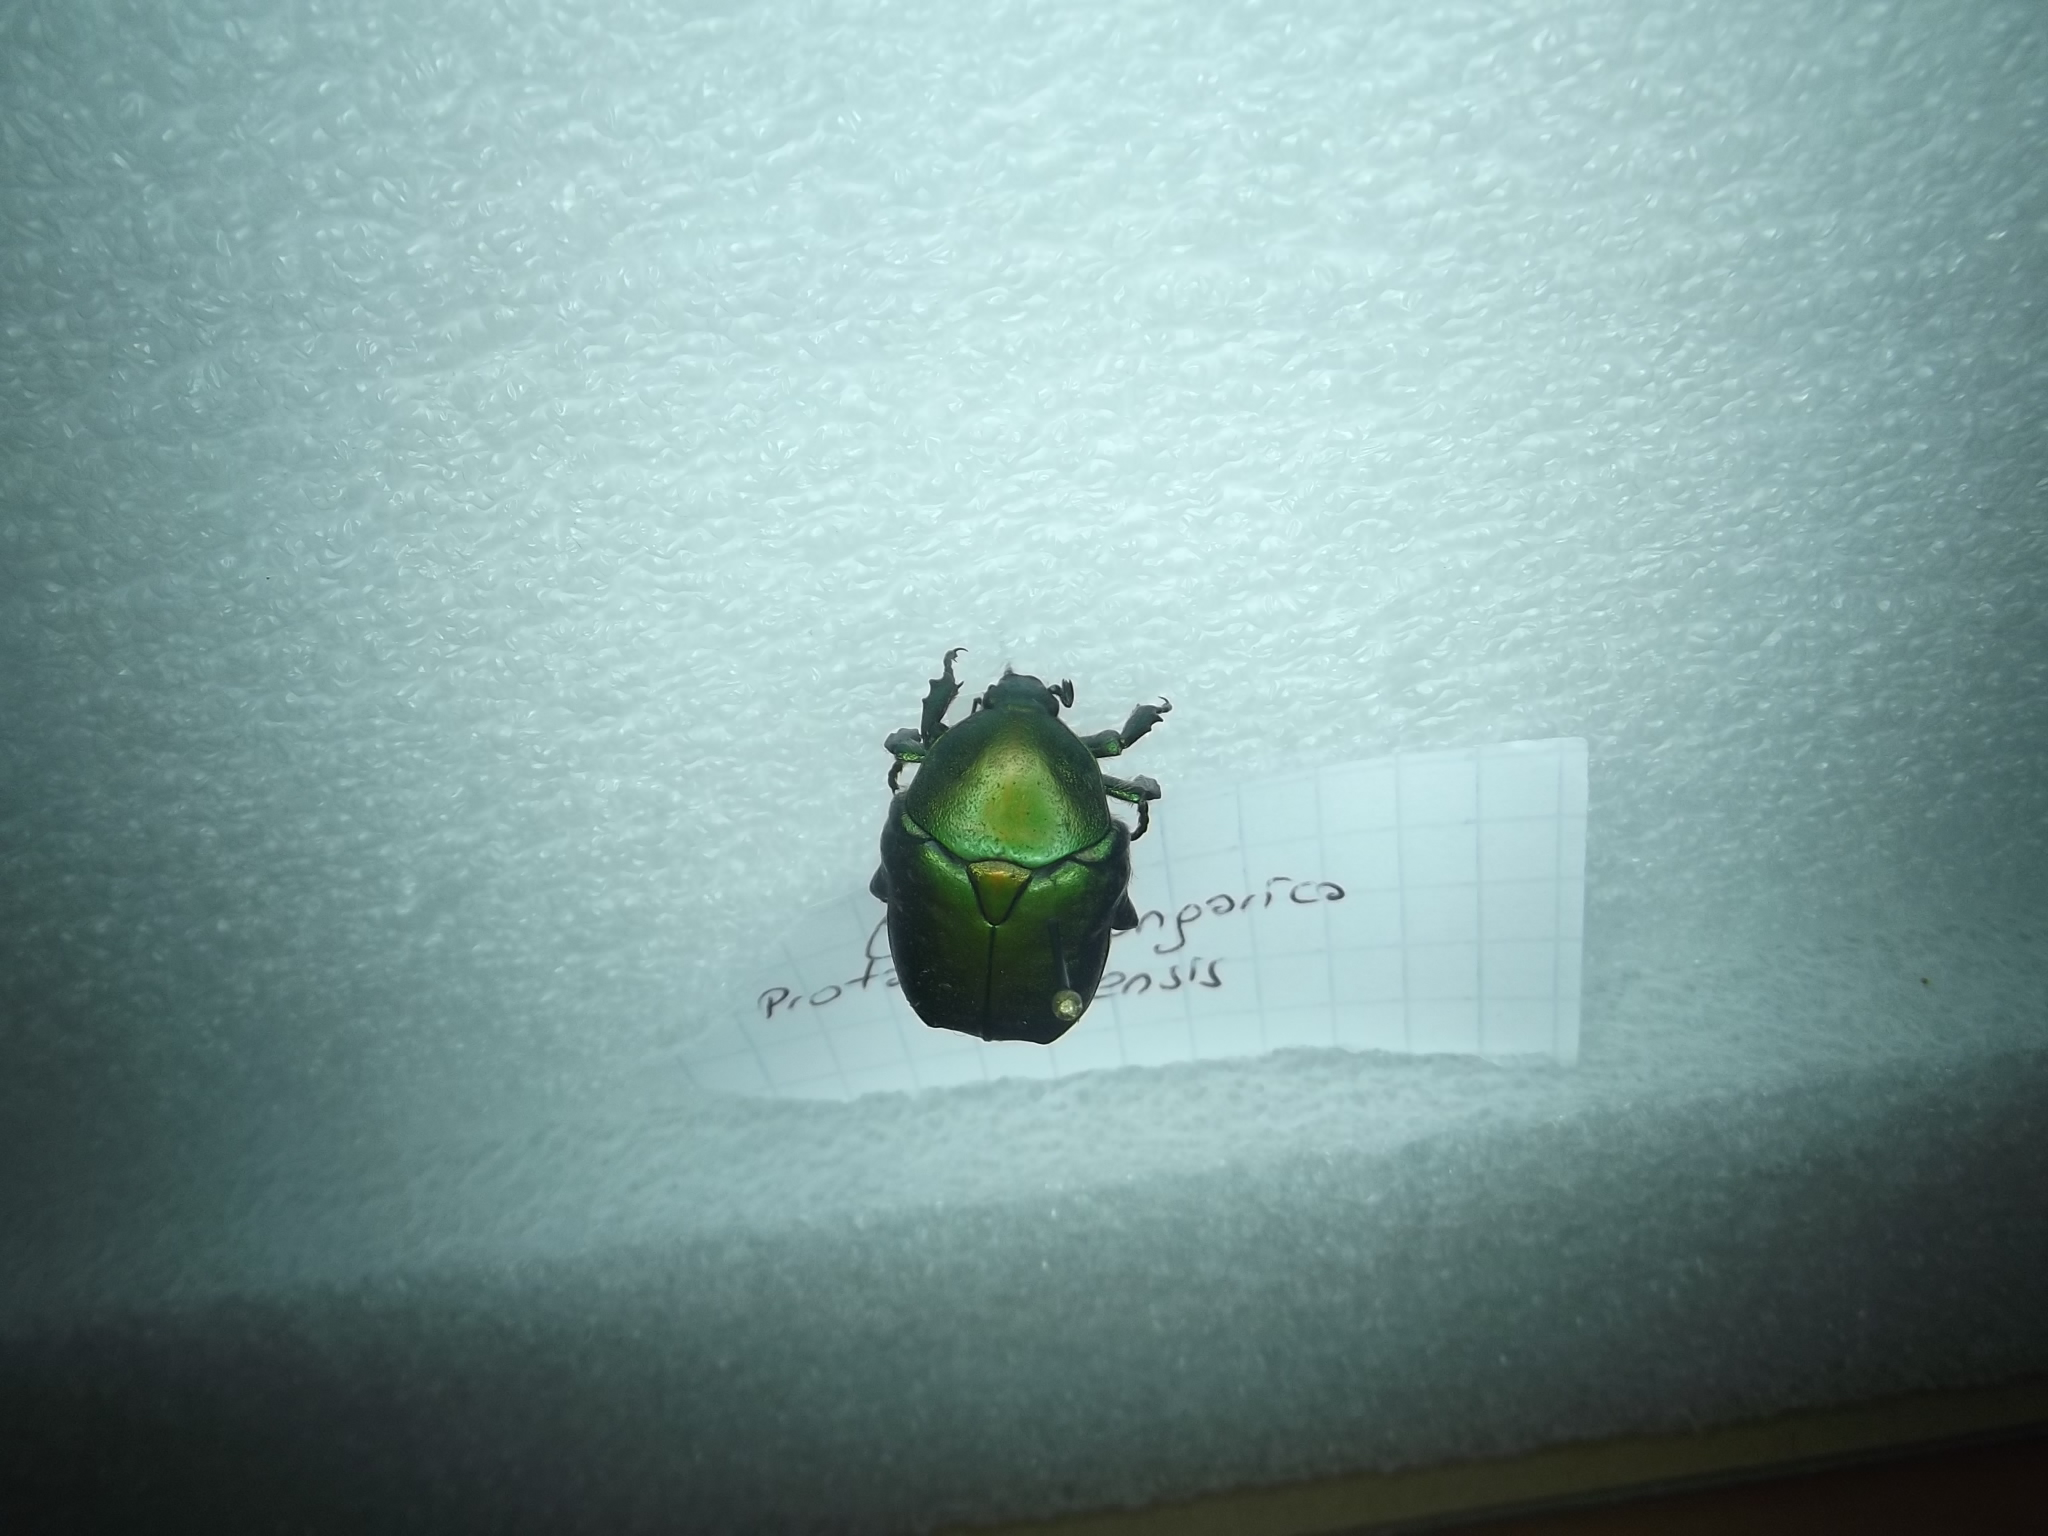Protaetia_ungarica: (856, 639, 1193, 1075)
